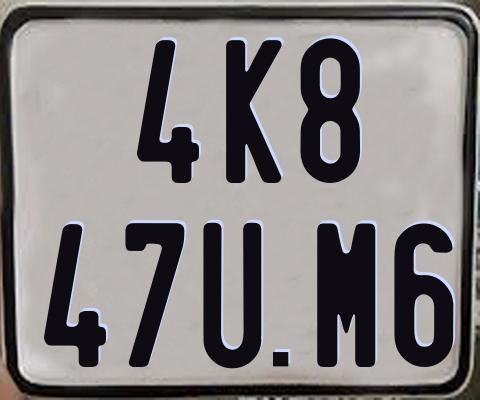4: (135, 40, 202, 189), (43, 224, 107, 369)
6: (393, 222, 452, 372)
7: (125, 222, 187, 371)
8: (299, 38, 361, 186)
K: (223, 38, 279, 185)
M: (317, 220, 375, 370)
U: (200, 220, 258, 369)
